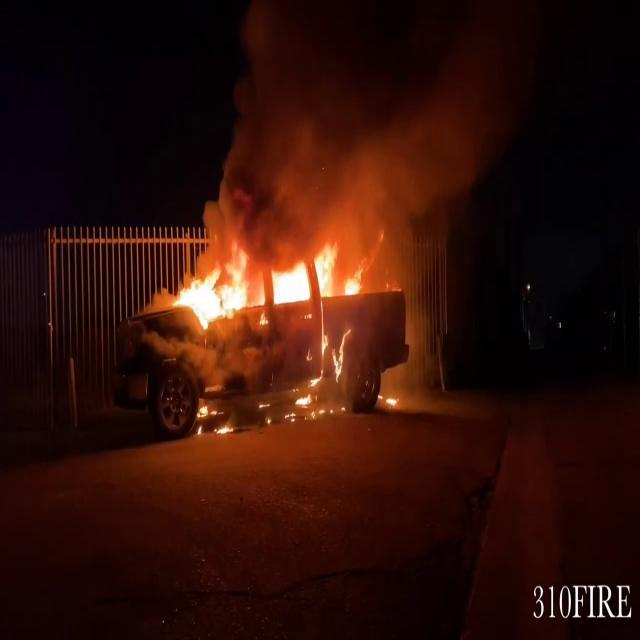Fire: (174, 237, 366, 327), (174, 250, 254, 330), (194, 396, 234, 438)
Smoke: (210, 6, 520, 240)
